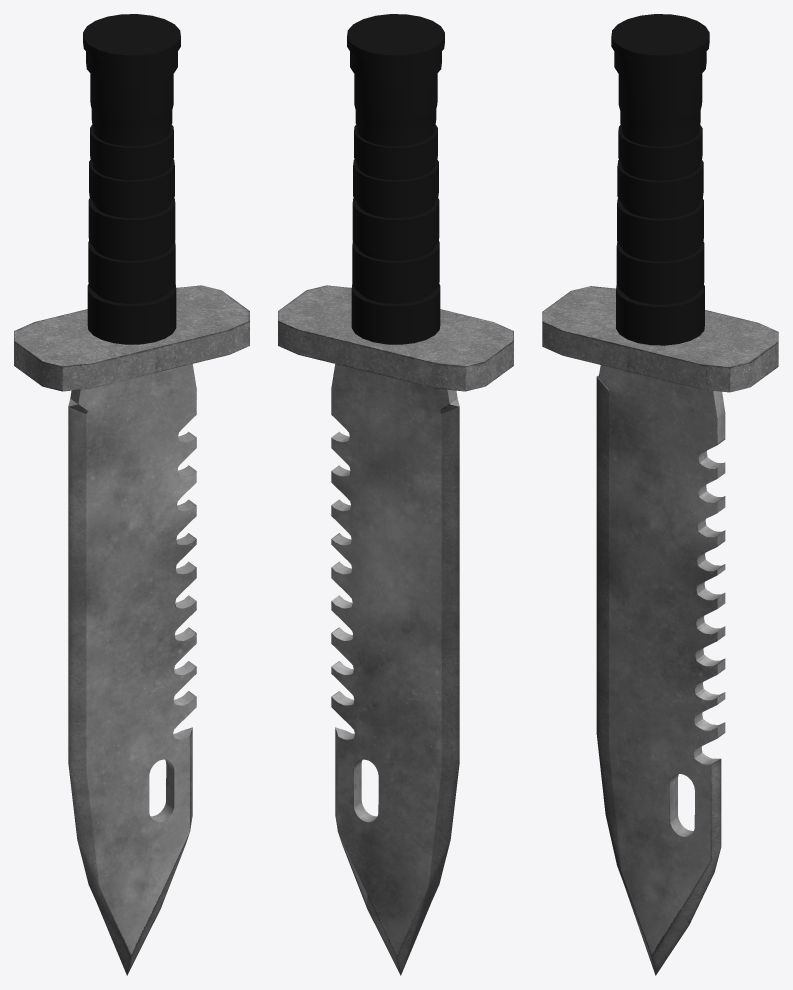
File: knifeFinal.fbx
The picture shows the model from 3 angles, left to right: view 1: azimuth 30°, elevation 25°; view 2: azimuth 150°, elevation 25°; view 3: azimuth 330°, elevation 25°; orthographic projection.
Parts seen in each view (by area): view 1: finished, grip; view 2: finished, grip; view 3: finished, grip.
Boxes of the visible parts, left/top/right/bottom form: finished: left=14, top=285, right=249, bottom=975; grip: left=83, top=14, right=180, bottom=306; finished: left=278, top=285, right=513, bottom=975; grip: left=347, top=14, right=444, bottom=306; finished: left=542, top=286, right=778, bottom=975; grip: left=611, top=14, right=709, bottom=306.
Bounding box in the file's own units: 871 × 3771 × 413.
Materials: 3 (3 with a texture image).
